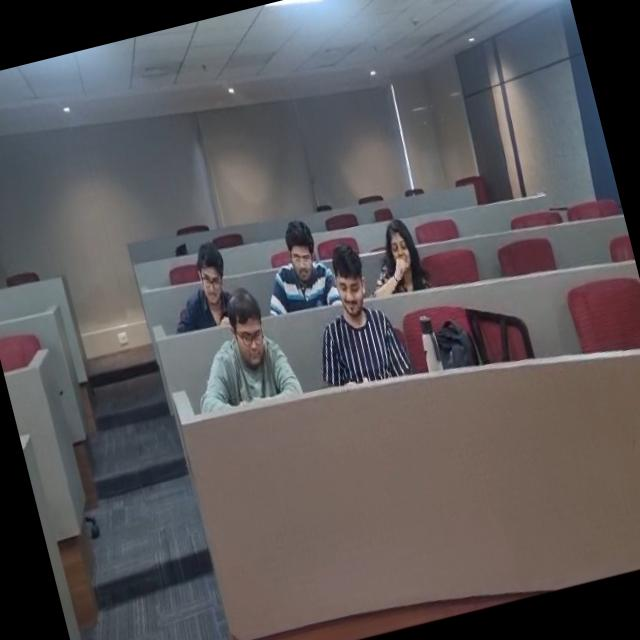non-cheating: (324, 248, 395, 378), (255, 210, 333, 320), (213, 278, 282, 393), (368, 200, 435, 306), (168, 224, 238, 323)
